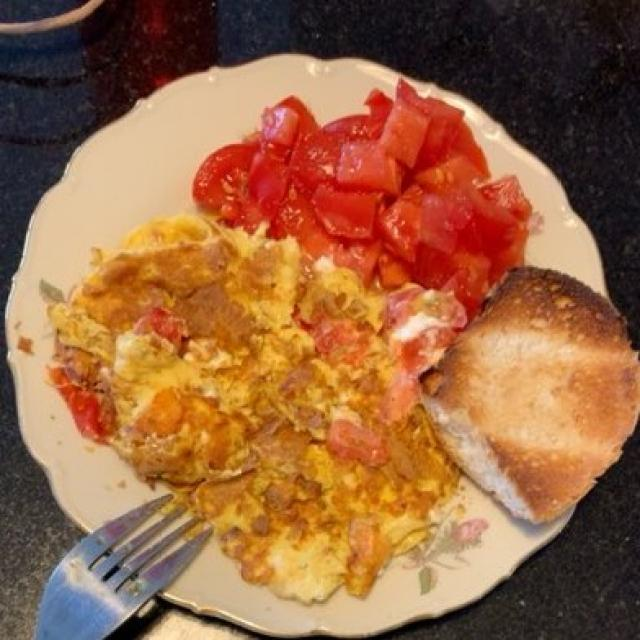bread: (409, 269, 630, 533)
omelette: (50, 225, 442, 588)
tomato: (190, 89, 534, 312)
